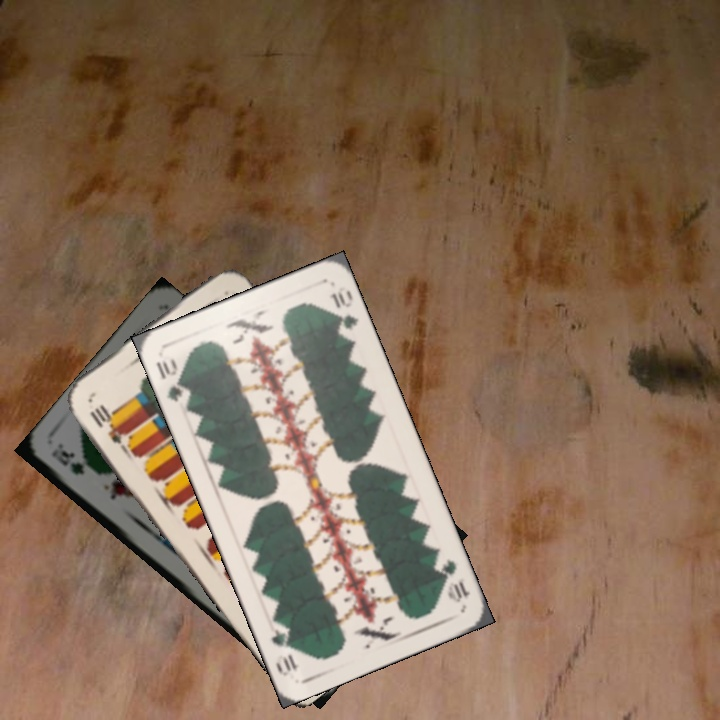E10: (85, 401, 127, 446)
G10: (431, 553, 473, 605), (152, 354, 190, 405)
GK: (47, 442, 87, 478)
